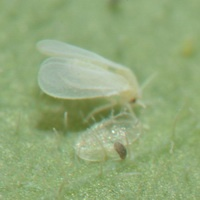insect: (37, 39, 140, 160)
